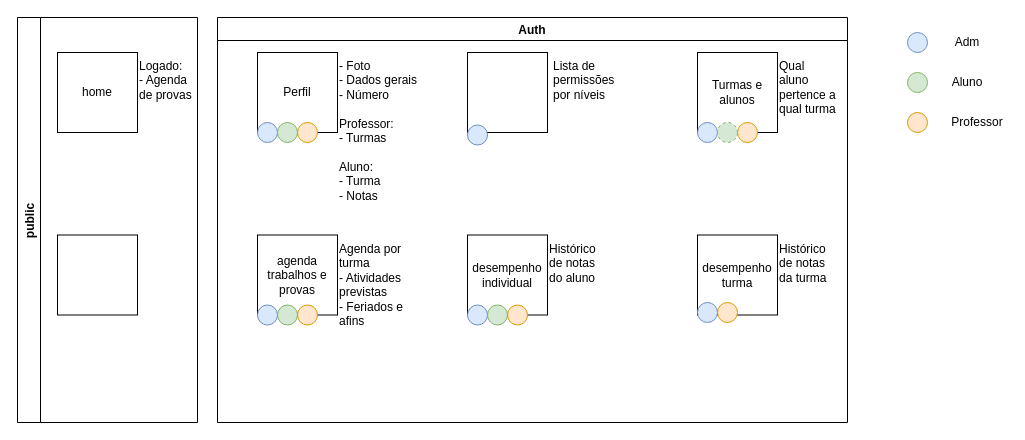
This 1025x440 diagram has some shape labels left out. Here are the shapes that lost their labels. From the top down, the centre of each, then its label:
At (x=507, y=92): "Permissões".
At (x=97, y=274): "login / cadastro".
